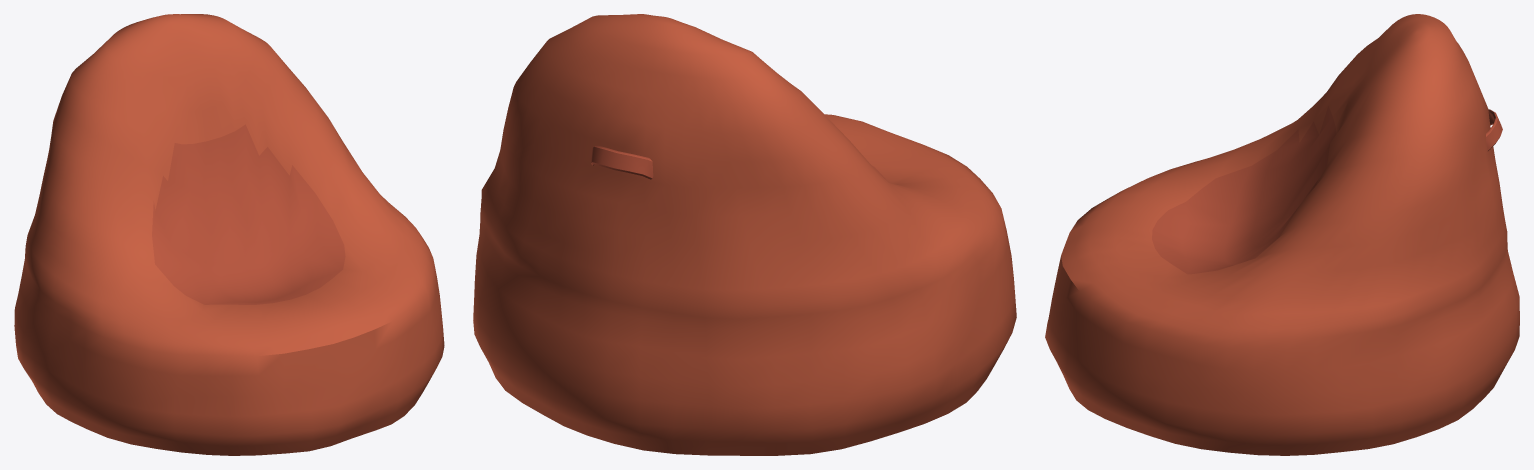
File: beanBag.glb
The picture shows the model from 3 angles, left to right: view 1: azimuth 30°, elevation 25°; view 2: azimuth 150°, elevation 25°; view 3: azimuth 270°, elevation 25°; orthographic projection. The views are drawn at different scales.
Parts seen in each view (by area): view 1: bag; view 2: bag; view 3: bag.
Part boxes in pixels (x1,y1,x2,y2): bag: (14,14,444,455); bag: (473,14,1016,455); bag: (1045,14,1519,455).
Size of the model in its own units: 0.8364 by 0.6932 by 0.8607.
